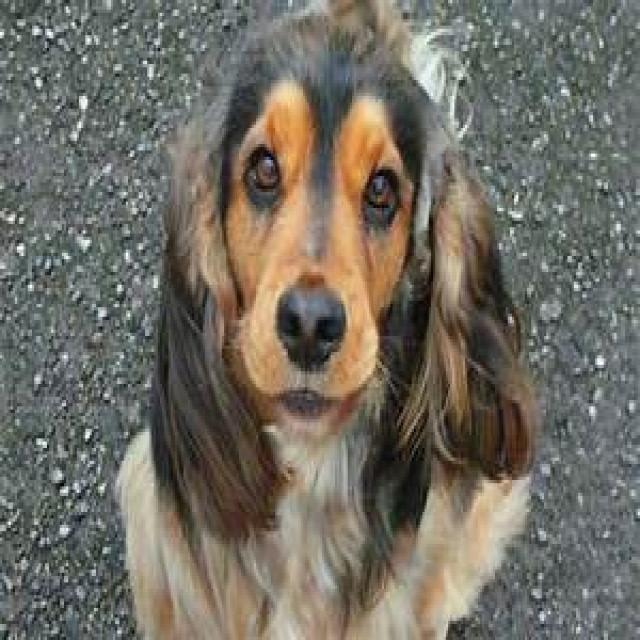animal: (113, 0, 540, 637)
